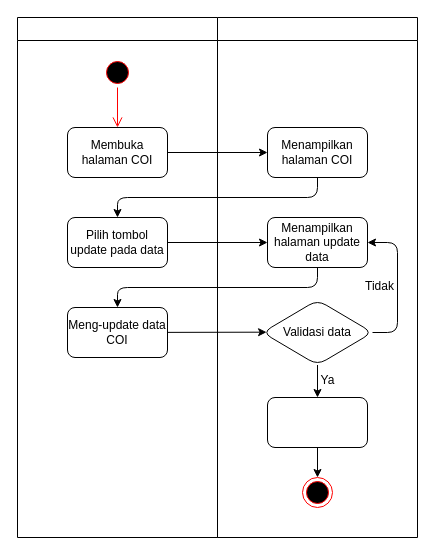
This 435x555 diagram has some shape labels left out. The box of each missing label's shape, as (x1, y1, x2, y2) in pixels:
Perubahan data tersimpan: (266, 396, 368, 448)
Sistem: (216, 16, 418, 538)
User: (16, 16, 218, 538)
